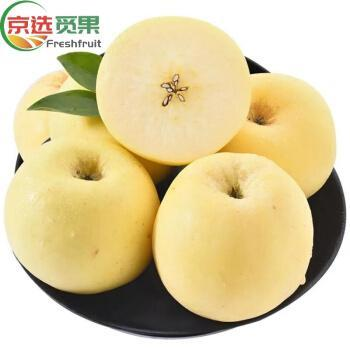apple: (154, 151, 314, 322), (6, 137, 159, 297), (221, 72, 335, 197)
